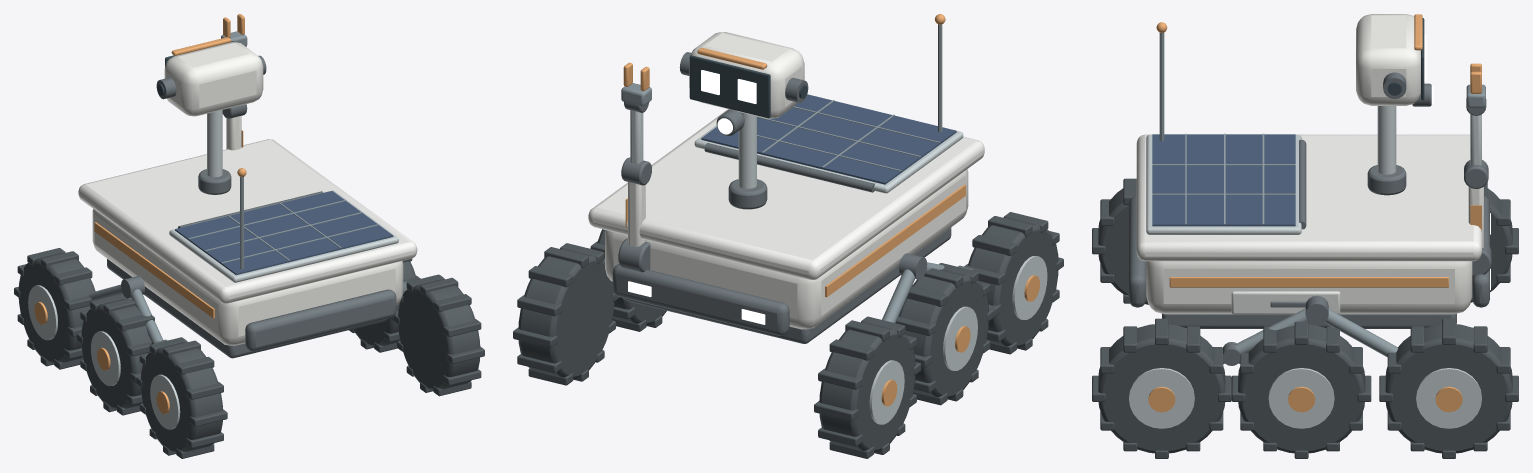
Rendered from gar_y.glb.
3 renders of one model, left to right at view 1: azimuth 30°, elevation 25°; view 2: azimuth 150°, elevation 25°; view 3: azimuth 270°, elevation 25°, orthographic. The views are drawn at different scales.
Visible parts, largest first — view 1: deck_white_painted, chassis_rover_white, solar_cells_solar_cell, wheel_5_black_rubber, wheel_6_black_rubber, wheel_1_black_rubber, wheel_3_black_rubber, head_rover_white, bumper_rear_graphite, solar_frame_alloy, belly_graphite, wheel_4_black_rubber (+6 smaller); view 2: deck_white_painted, chassis_rover_white, wheel_1_black_rubber, wheel_2_black_rubber, solar_cells_solar_cell, wheel_3_black_rubber, wheel_5_black_rubber, bumper_front_graphite, head_rover_white, visor_dark_glass, belly_graphite, trim_orange (+12 smaller); view 3: deck_white_painted, wheel_6_black_rubber, wheel_2_black_rubber, wheel_4_black_rubber, solar_cells_solar_cell, chassis_rover_white, head_rover_white, wheel_5_black_rubber, trim_orange, belly_graphite, leg_r_dark_alloy, solar_frame_alloy (+12 smaller).
Boxes of the visible parts, x1,y1,x2,y2 form: deck_white_painted: (78,139,417,303); chassis_rover_white: (92,209,403,345); solar_cells_solar_cell: (175,191,393,275); wheel_5_black_rubber: (136,337,227,458); wheel_6_black_rubber: (393,274,484,396); wheel_1_black_rubber: (14,248,95,369); wheel_3_black_rubber: (76,295,154,415); head_rover_white: (164,42,263,116); bumper_rear_graphite: (245,289,396,351); solar_frame_alloy: (169,190,398,282); belly_graphite: (107,259,387,358); wheel_4_black_rubber: (349,258,420,352); deck_white_painted: (588,109,984,279); chassis_rover_white: (605,169,968,329); wheel_1_black_rubber: (814,316,920,458); wheel_2_black_rubber: (513,243,619,385); solar_cells_solar_cell: (701,94,956,184); wheel_3_black_rubber: (896,263,994,405); wheel_5_black_rubber: (964,212,1063,354); bumper_front_graphite: (612,264,789,335); head_rover_white: (689,32,804,118); visor_dark_glass: (689,55,770,118); belly_graphite: (622,227,951,343); trim_orange: (825,184,965,297); deck_white_painted: (1136,134,1481,261); wheel_6_black_rubber: (1092,318,1231,458); wheel_2_black_rubber: (1379,318,1518,458); wheel_4_black_rubber: (1231,321,1371,458); solar_cells_solar_cell: (1152,134,1295,226); chassis_rover_white: (1146,261,1472,314); head_rover_white: (1356,14,1420,105); wheel_5_black_rubber: (1092,178,1148,304); trim_orange: (1169,277,1448,287); belly_graphite: (1162,313,1456,328); leg_r_dark_alloy: (1222,295,1397,365); solar_frame_alloy: (1146,134,1301,234).
Size of the model in its own units: 1.04 by 0.984 by 1.1.
